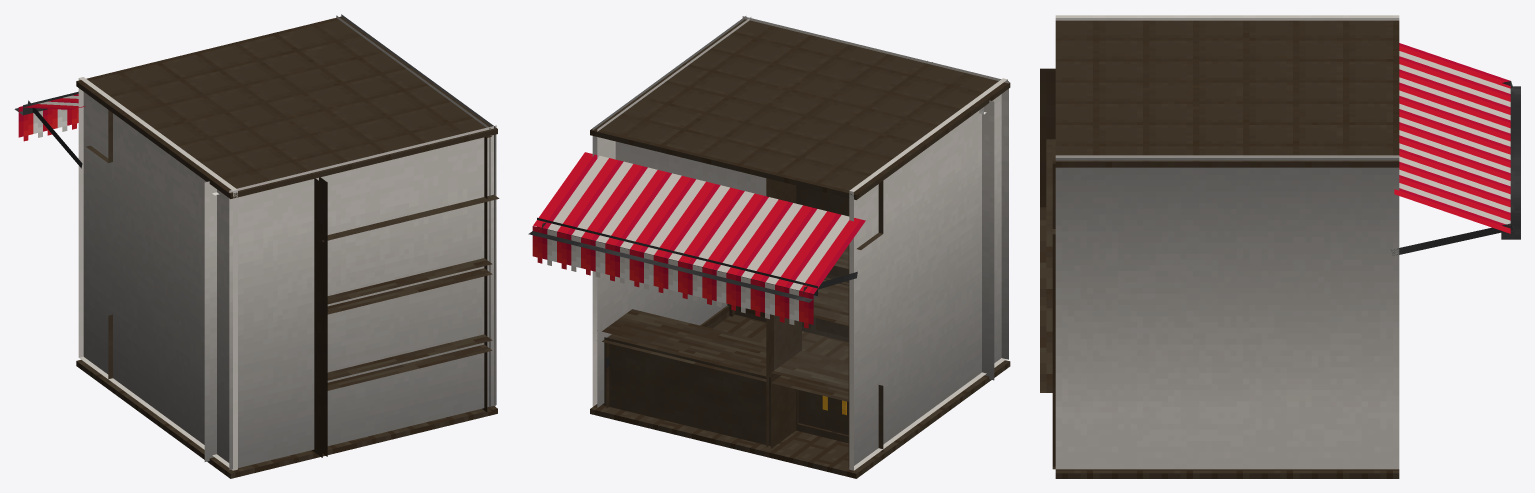
Rendered from stall.gltf.
3 views of the same model, side by side, from view 1: azimuth 30°, elevation 25°; view 2: azimuth 150°, elevation 25°; view 3: azimuth 270°, elevation 25° (orthographic). The views are drawn at different scales.
Visible parts, largest first — view 1: stall_mesh; view 2: stall_mesh; view 3: stall_mesh.
Boxes of the visible parts, box(x1,y1,x2,y2) form: stall_mesh: box(14, 14, 499, 478); stall_mesh: box(528, 16, 1010, 478); stall_mesh: box(1040, 15, 1520, 478).
Size of the model in its own units: 3.63 by 3.53 by 4.81.
Materials: 1 (1 with a texture image).
